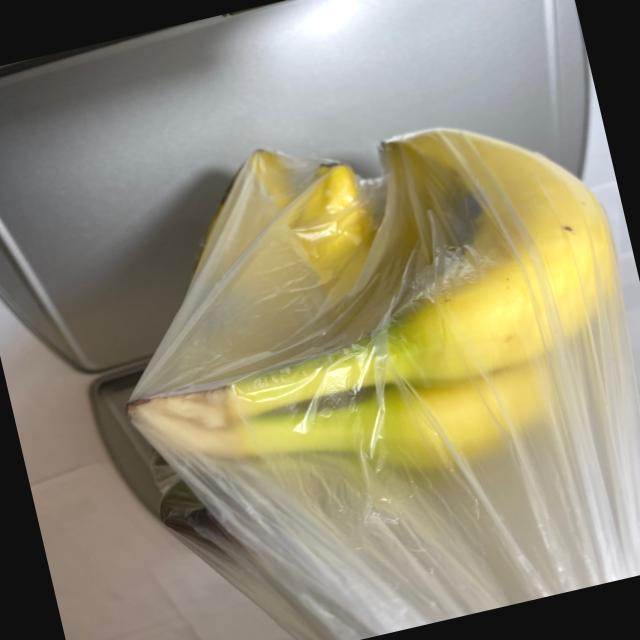banana: (70, 76, 640, 565)
